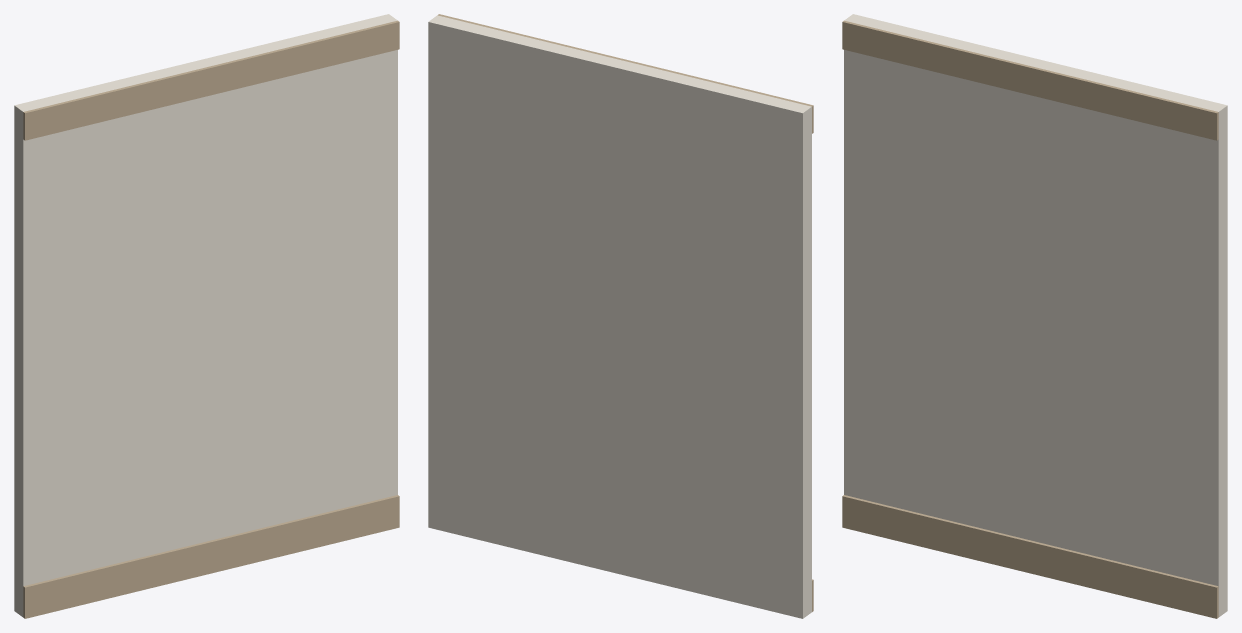
Rendered from wall.glb.
The picture shows the model from 3 angles, left to right: view 1: azimuth 30°, elevation 25°; view 2: azimuth 150°, elevation 25°; view 3: azimuth 330°, elevation 25°; orthographic projection.
Visible parts, largest first — view 1: wall; view 2: wall; view 3: wall.
Part boxes in pixels (left/top/right/bottom): wall: left=14, top=14, right=399, bottom=618; wall: left=428, top=14, right=813, bottom=618; wall: left=842, top=14, right=1227, bottom=618.
Bounding box in the file's own units: 1 × 1.29 × 0.05.
1 material, 1 textured.
